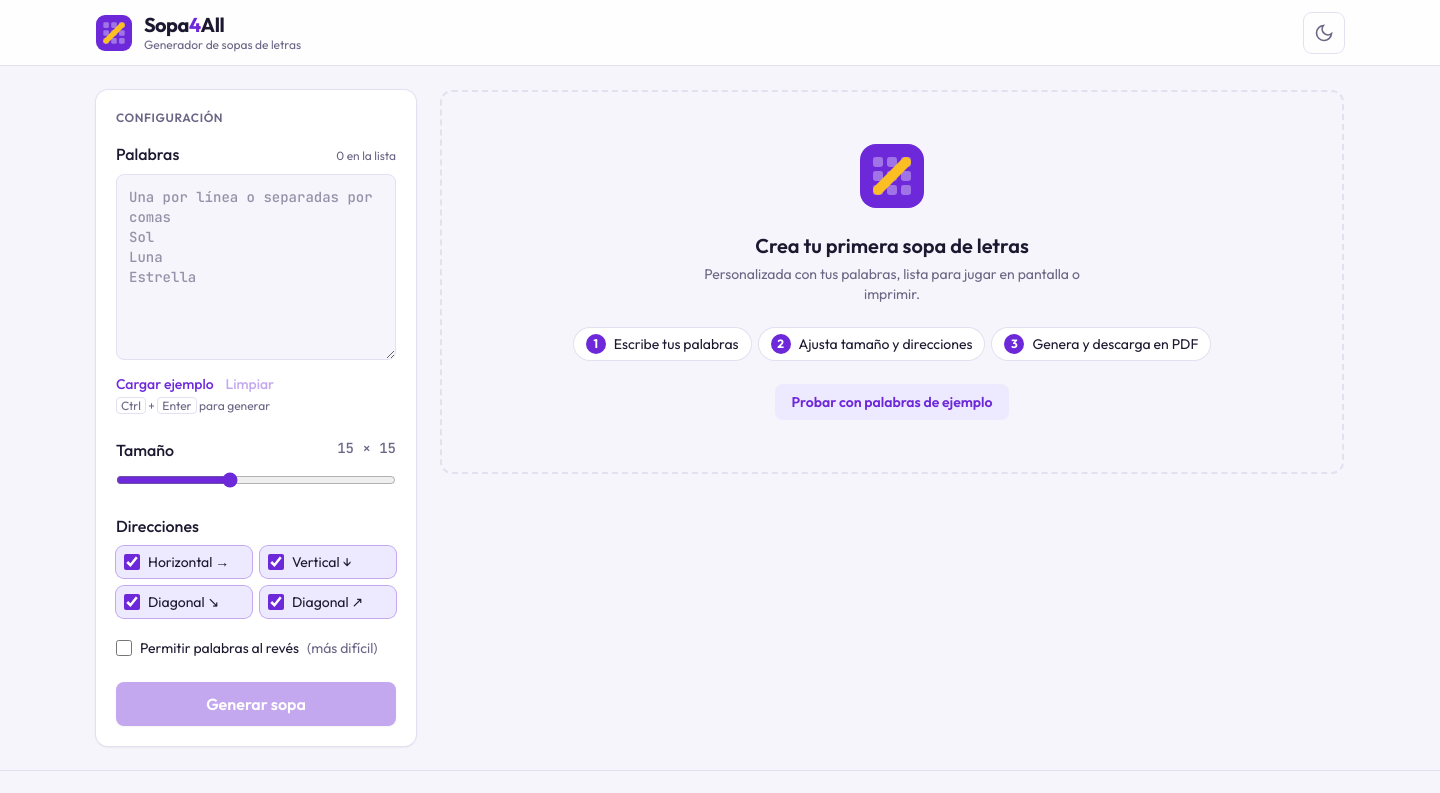
Test: App › respeta el tamaño elegido
Type "sol" into the text box labelled "Palabras".
click(256, 267); type("sol")  # box [116,174,396,360]
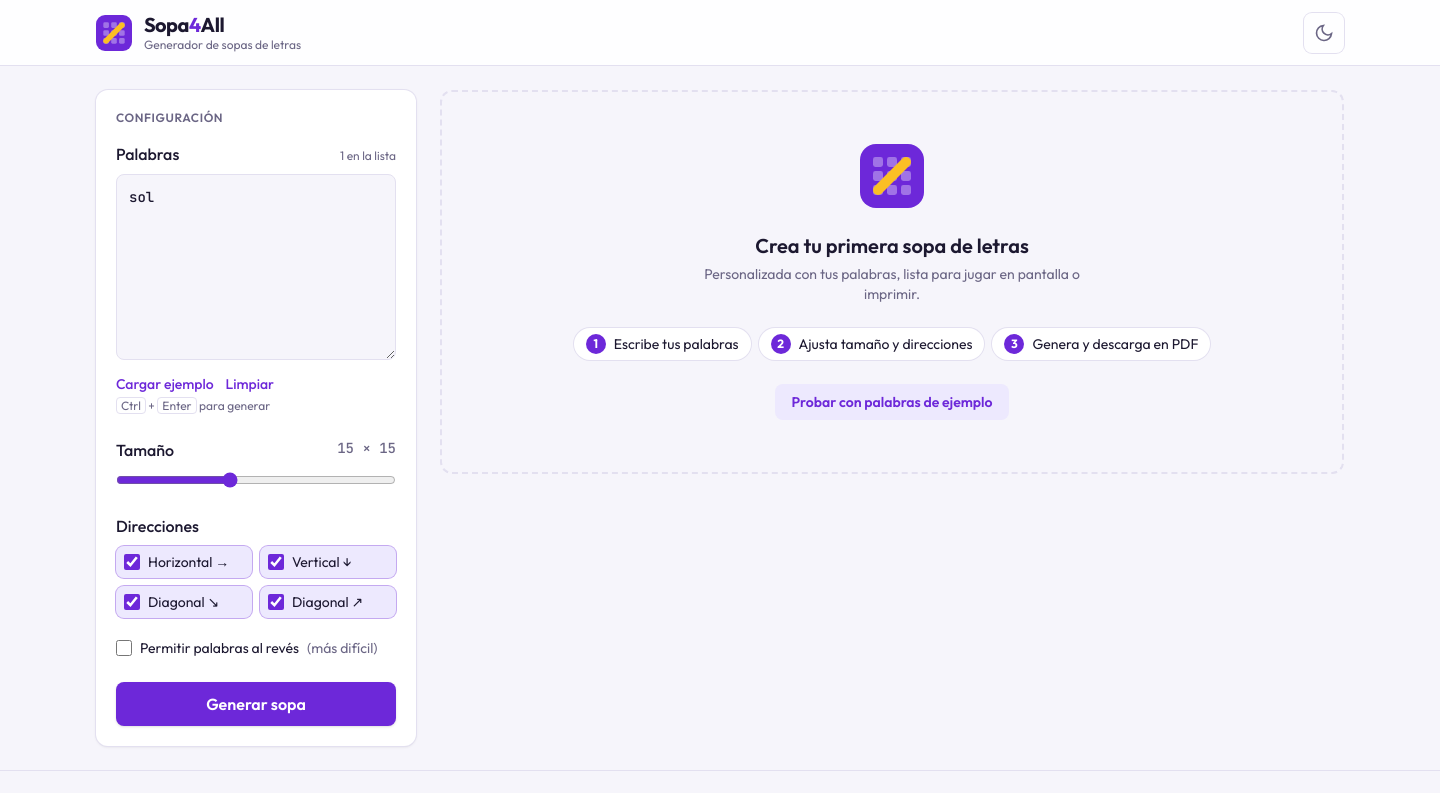
Set the slider labelled "Tamaño 15 × 15" to "8" at (156, 480), box [116,472,396,488]
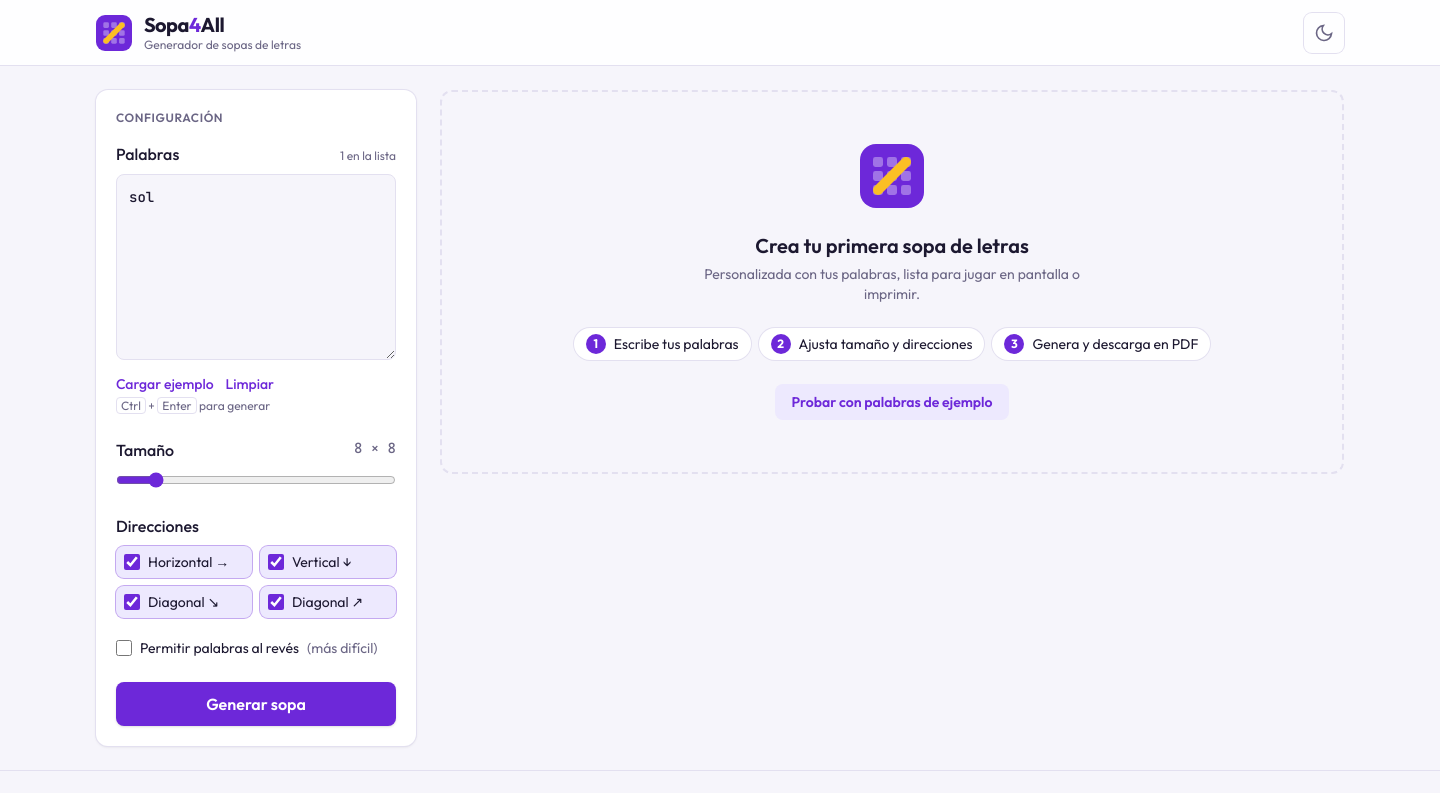
Click the button "Generar sopa".
click(256, 704)  # box [116,682,396,726]
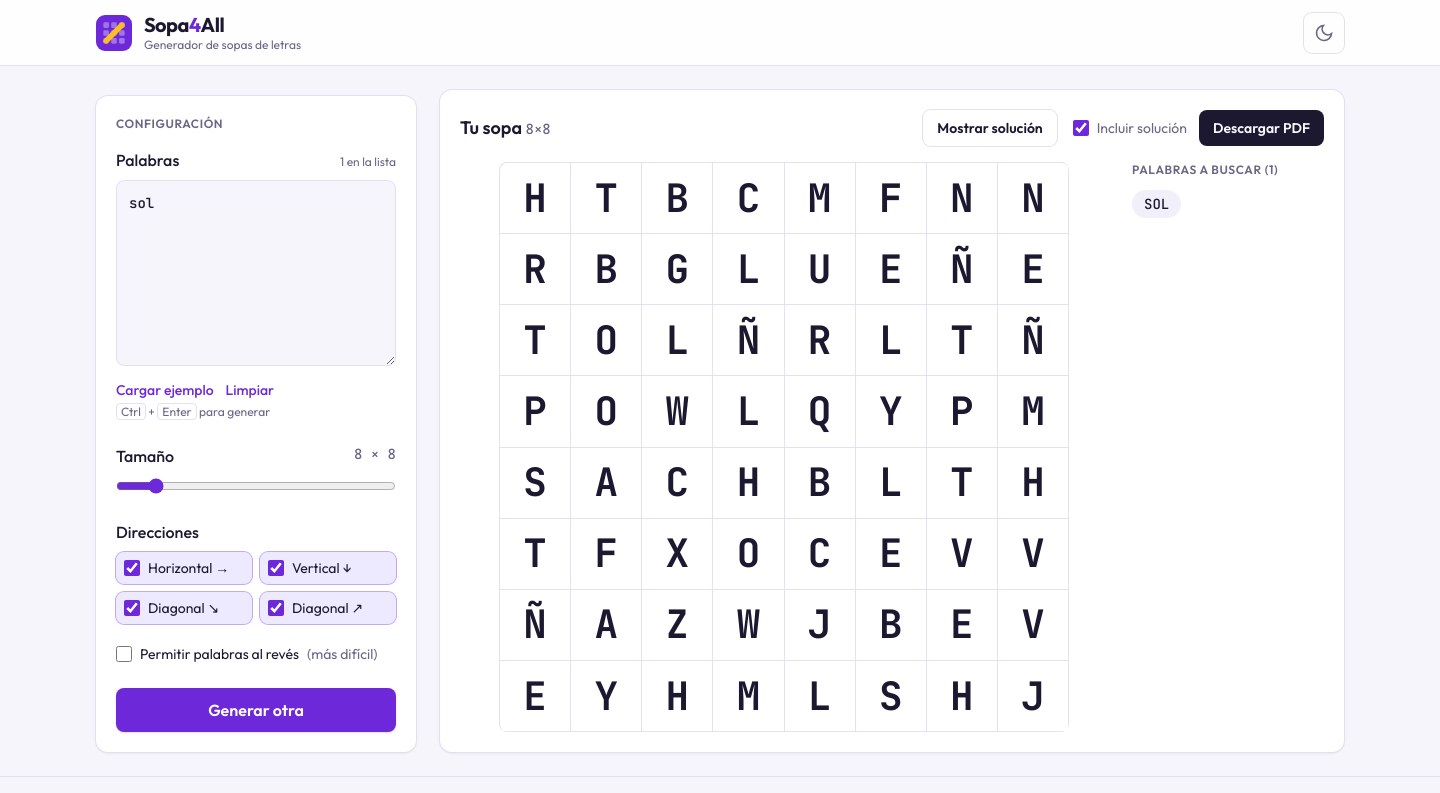
Result: the number of cells is 64
